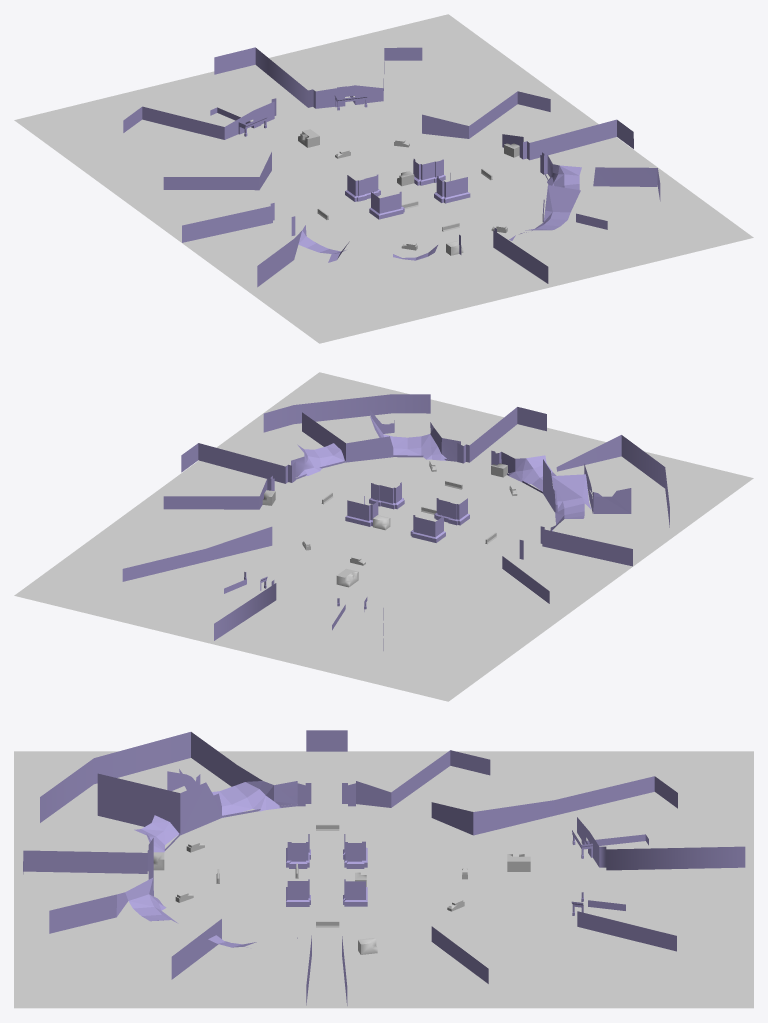
File: France_Col_Hit.glb
The picture shows the model from 3 angles, top to bottom: view 1: azimuth 30°, elevation 25°; view 2: azimuth 150°, elevation 25°; view 3: azimuth 270°, elevation 25°; orthographic projection. The views are drawn at different scales.
Parts seen in each view (by area): view 1: Plane01, Col, Sandbag32; view 2: Plane01, Col, Sandbag32; view 3: Plane01, Col, Sandbag32.
Boxes of the visible parts, x1,y1,x2,y2 form: Plane01: (14,14,753,343); Col: (123,47,660,287); Sandbag32: (298,129,519,255); Plane01: (14,372,753,701); Col: (122,394,669,650); Sandbag32: (262,461,517,587); Plane01: (14,751,753,1008); Col: (23,730,745,1005); Sandbag32: (153,824,530,954).
Bounding box in the file's own units: 261 × 20.38 × 317.
